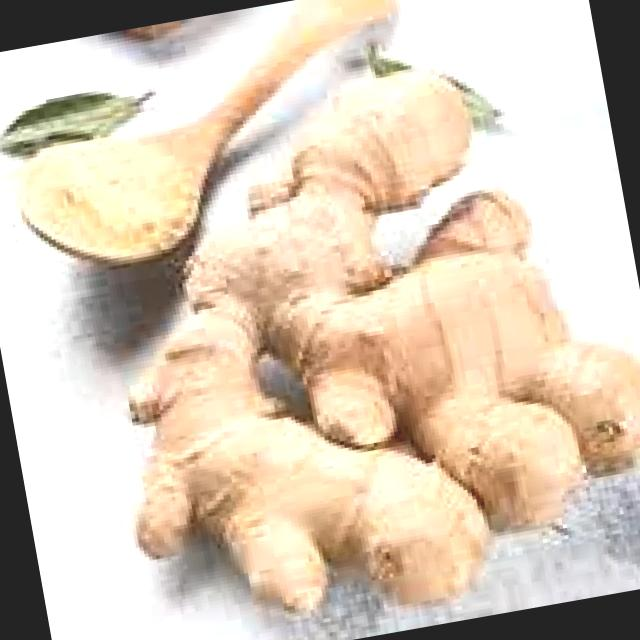lemon: (85, 50, 640, 624)
